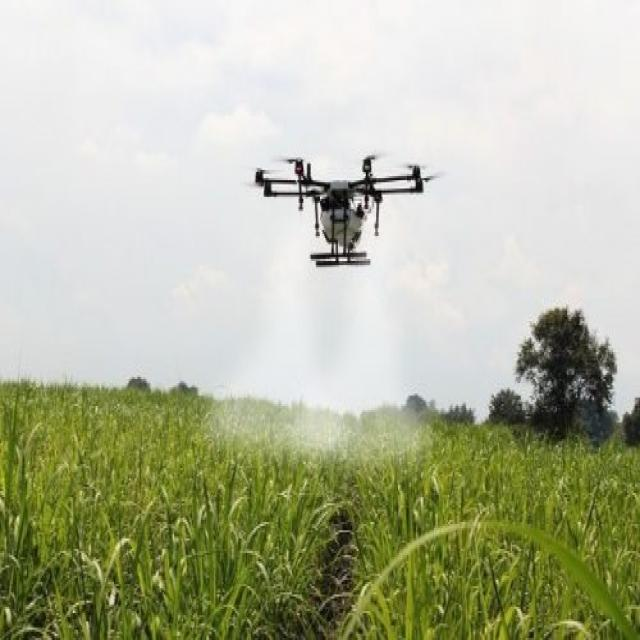drone: (240, 137, 446, 288)
